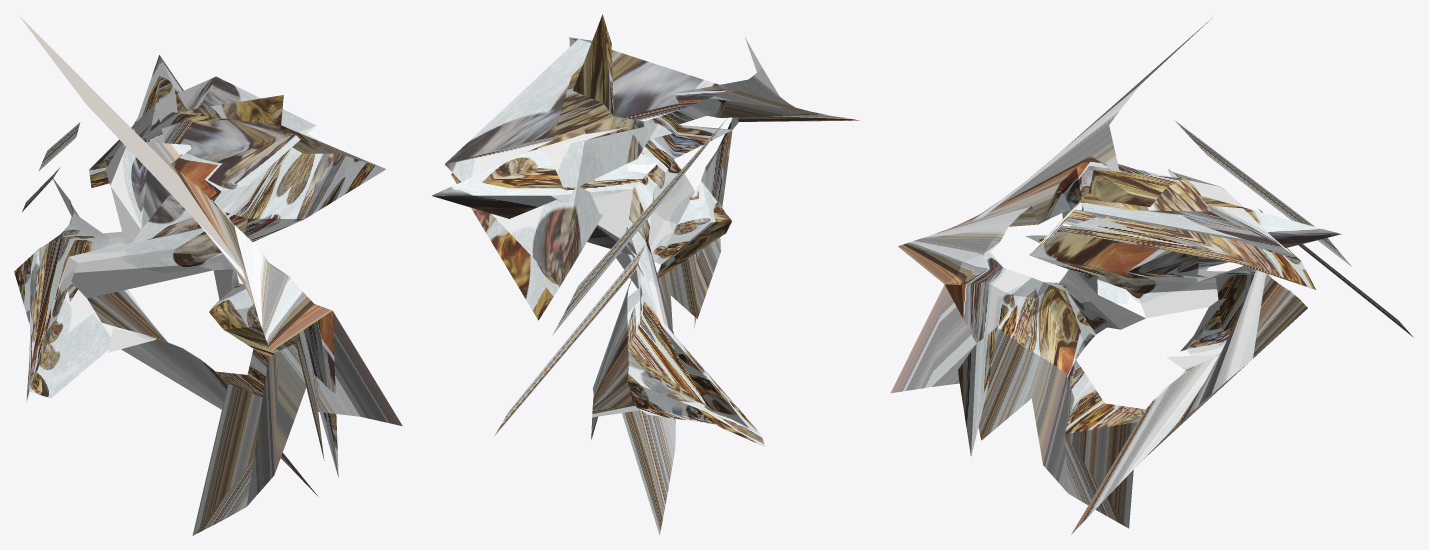
The picture shows the model from 3 angles, left to right: view 1: azimuth 30°, elevation 25°; view 2: azimuth 150°, elevation 25°; view 3: azimuth 270°, elevation 25°; orthographic projection. The views are drawn at different scales.
Visible parts, largest first — view 1: Plane; view 2: Plane; view 3: Plane.
Part boxes in pixels (box(x1,y1,x2,y2)): Plane: box(14, 16, 402, 535); Plane: box(431, 14, 859, 535); Plane: box(890, 17, 1413, 534).
Bounding box in the file's own units: 2.34 × 4.3 × 4.44.
1 material, 1 textured.
